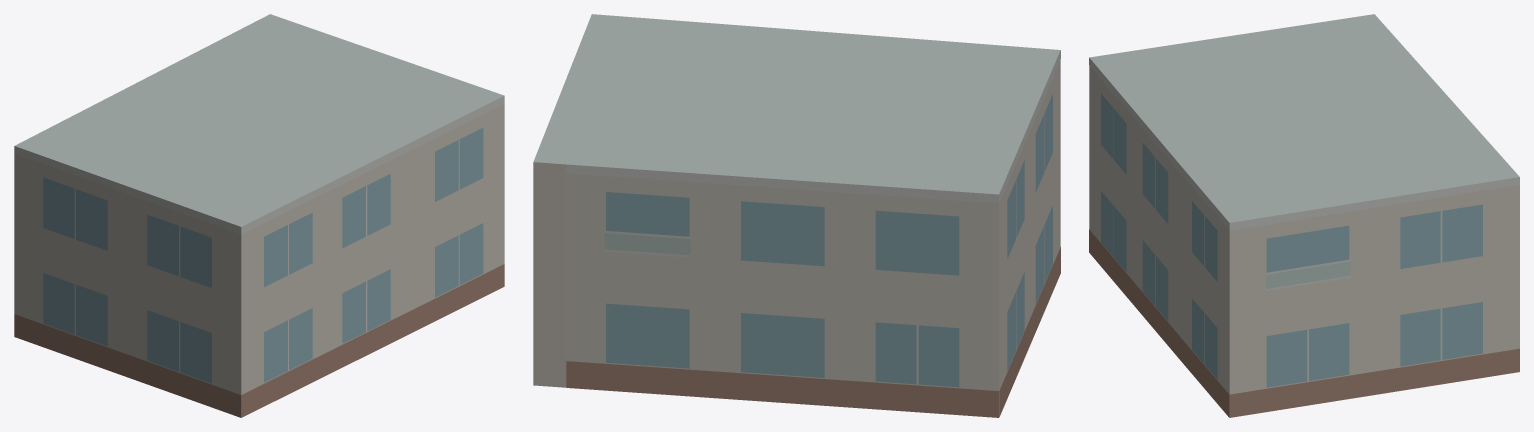
The model's file is survey-upis-32775297.glb.
3 renders of one model, left to right at view 1: azimuth 30°, elevation 25°; view 2: azimuth 150°, elevation 25°; view 3: azimuth 270°, elevation 25°, orthographic. The views are drawn at different scales.
Parts seen in each view (by area): view 1: survey-upis-32775297.tmp; view 2: survey-upis-32775297.tmp; view 3: survey-upis-32775297.tmp.
Boxes of the visible parts, bbox=[...] form: survey-upis-32775297.tmp: bbox=[14, 14, 504, 417]; survey-upis-32775297.tmp: bbox=[533, 14, 1060, 417]; survey-upis-32775297.tmp: bbox=[1089, 14, 1519, 417].
Size of the model in its own units: 14.03 by 6.1 by 12.22.
